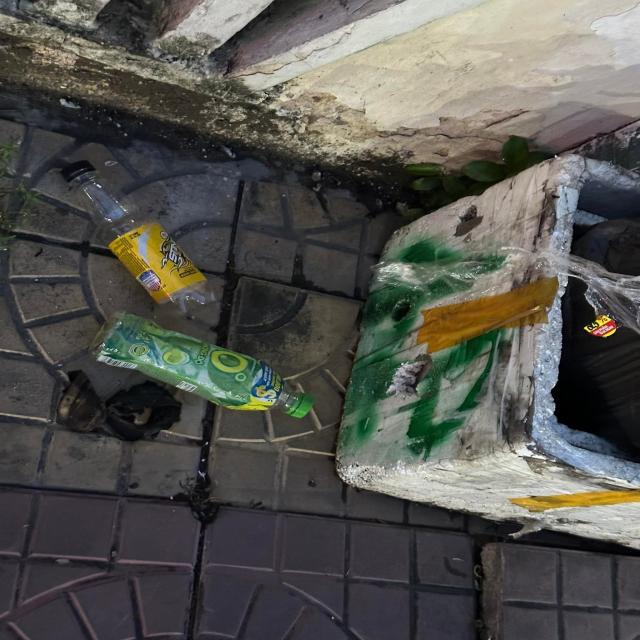bottle: (61, 160, 221, 320), (87, 310, 317, 420)
